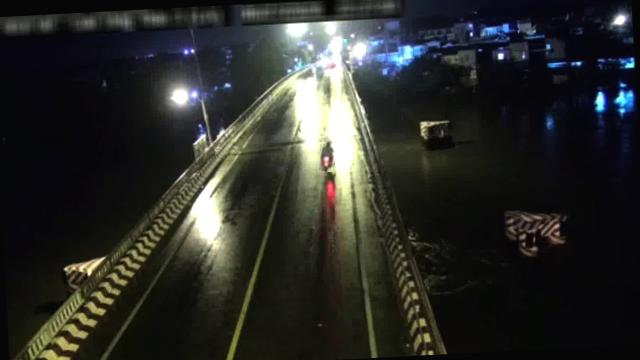Bike: (317, 139, 336, 172)
